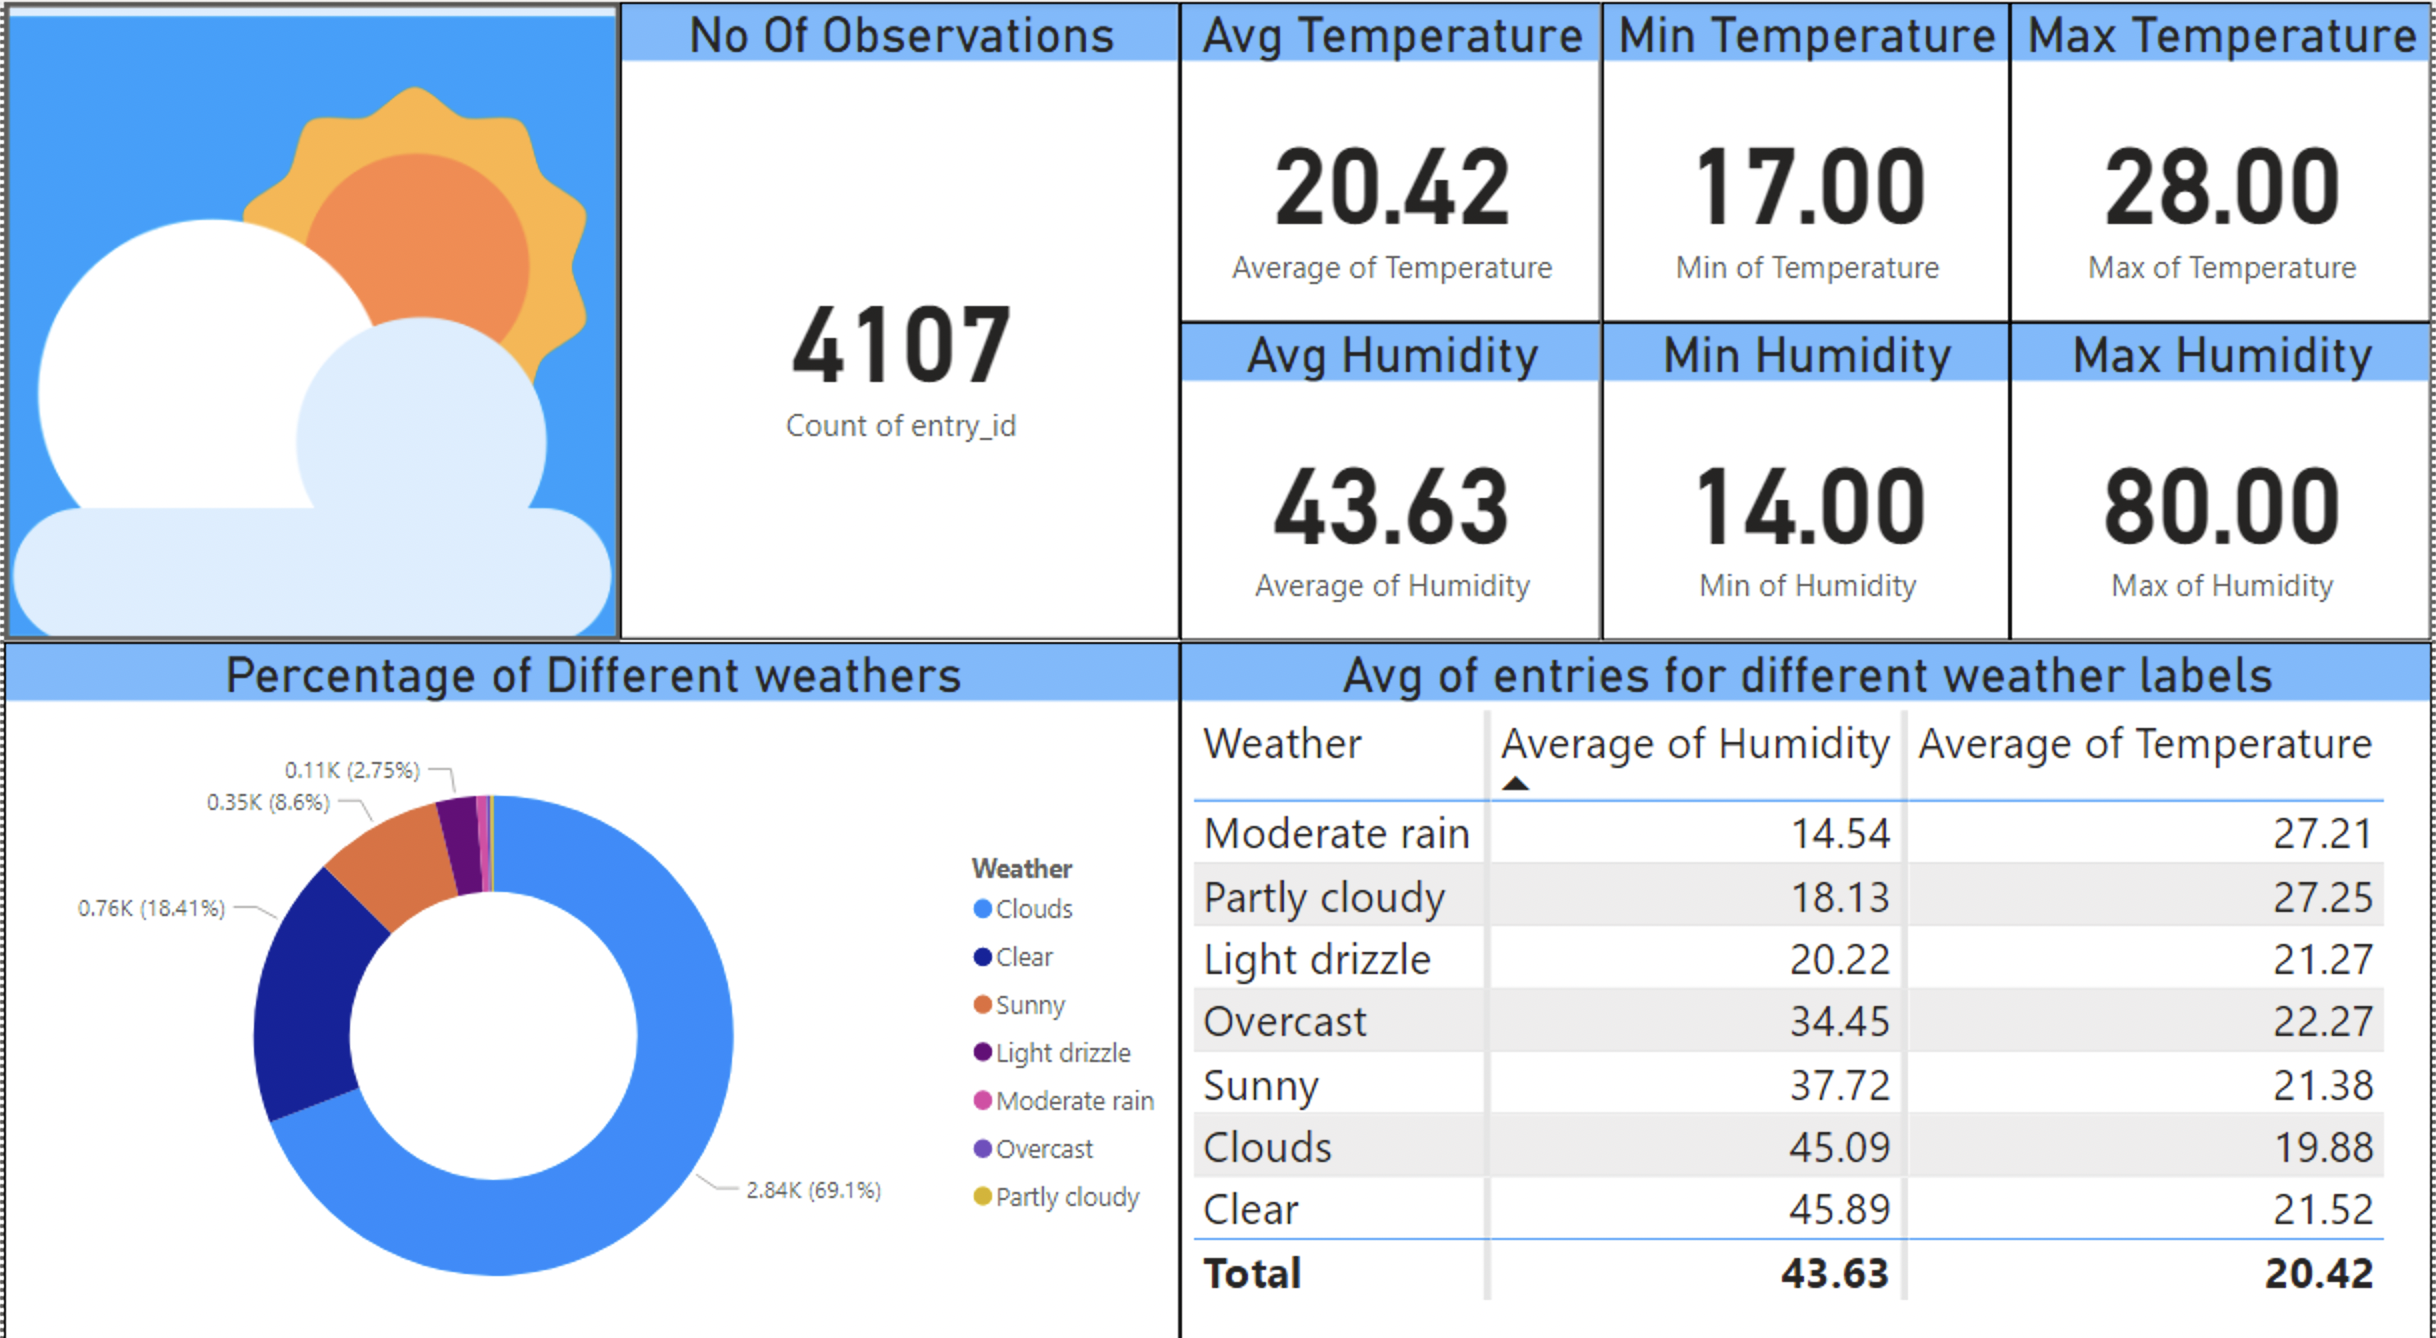

The dashboard page shown, as its layout file describes it:
{"tool":"powerbi","page":{"name":"Page 1","canvas":[1280,720],"ordinal":0},"visuals":[{"type":"card","title":"Avg Temperature","fields":{"Values":["Avg(out.Temperature)"]},"box":[619.6,0,193.8,168.3],"z":0},{"type":"card","title":"Min Temperature","fields":{"Values":["Min(out.Temperature)"]},"box":[813.4,0,230.8,168.3],"z":1000},{"type":"card","title":"Max Temperature","fields":{"Values":["Max(out.Temperature)"]},"box":[1044.1,0,235.9,168.3],"z":2000},{"type":"card","title":"Avg Humidity","fields":{"Values":["Avg(out.Humidity)"]},"box":[619.6,168.3,193.8,168.3],"z":3000},{"type":"card","title":"Max Humidity","fields":{"Values":["Max(out.Humidity)"]},"box":[1044.1,168.3,235.9,168.3],"z":4000},{"type":"card","title":"Min Humidity","fields":{"Values":["Min(out.Humidity)"]},"box":[813.4,168.3,230.8,168.3],"z":5000},{"type":"donutChart","title":"Percentage of Different weathers","fields":{"Category":["out.Weather"],"Y":["CountNonNull(out.Weather)"]},"box":[0,337.3,619.9,382.7],"z":6000},{"type":"tableEx","title":"Avg of entries for different weather labels","fields":{"Values":["out.Weather","Avg(out.Humidity)","Avg(out.Temperature)"]},"box":[619.9,337.3,659.9,382.7],"z":7000},{"type":"actionButton","box":[0,0,325.1,336.6],"z":8000},{"type":"card","title":"No Of Observations","fields":{"Values":["CountNonNull(out.entry_id)"]},"box":[325.1,0,294.5,336.6],"z":9000}]}

Visuals, with their boxes in screenshot pixels (x1, y1, x2, y2), scaled from the page's 1280x720 canvas onto the 2436x1338 screenshot:
"Avg Temperature" card: bbox=[1179, 0, 1548, 313]
"Min Temperature" card: bbox=[1548, 0, 1987, 313]
"Max Temperature" card: bbox=[1987, 0, 2435, 313]
"Avg Humidity" card: bbox=[1179, 313, 1548, 626]
"Max Humidity" card: bbox=[1987, 313, 2435, 626]
"Min Humidity" card: bbox=[1548, 313, 1987, 626]
"Percentage of Different weathers" donutChart: bbox=[0, 627, 1180, 1337]
"Avg of entries for different weather labels" tableEx: bbox=[1180, 627, 2435, 1337]
actionButton: bbox=[0, 0, 619, 626]
"No Of Observations" card: bbox=[619, 0, 1179, 626]
